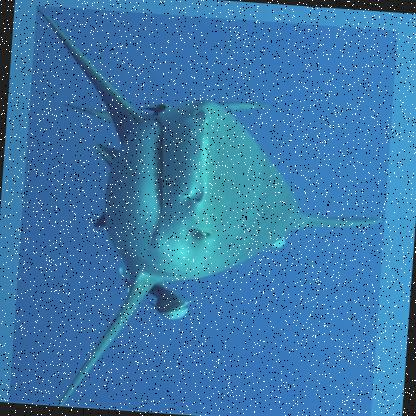bulldog-shark: (7, 5, 399, 415)
